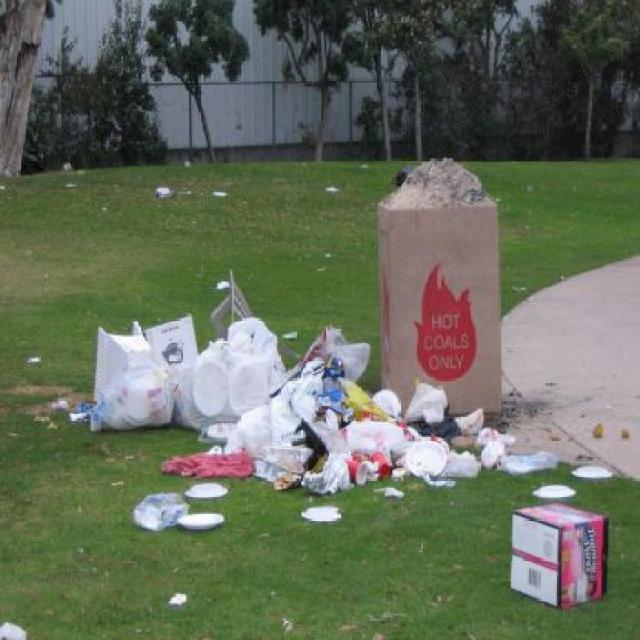garbage: (95, 319, 548, 473), (374, 162, 506, 312), (502, 502, 606, 610), (137, 478, 223, 530), (520, 483, 586, 498), (574, 460, 616, 482), (299, 501, 339, 524), (3, 620, 26, 640), (48, 397, 69, 411), (152, 186, 176, 198), (171, 591, 191, 604), (62, 159, 78, 172), (326, 188, 344, 199), (28, 356, 41, 367), (212, 189, 224, 200)
